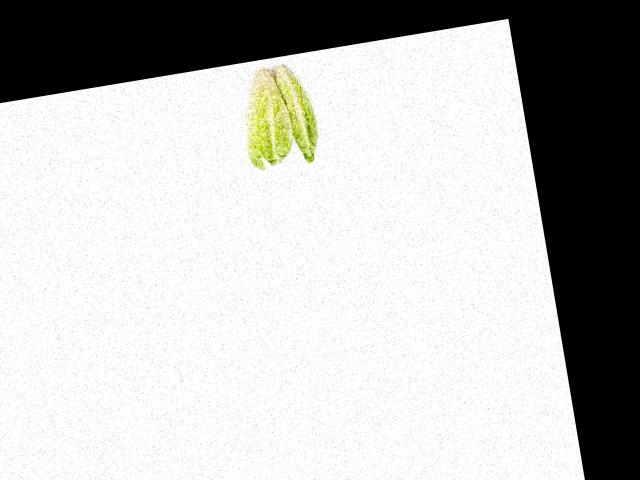lettuce: (270, 53, 333, 167)
